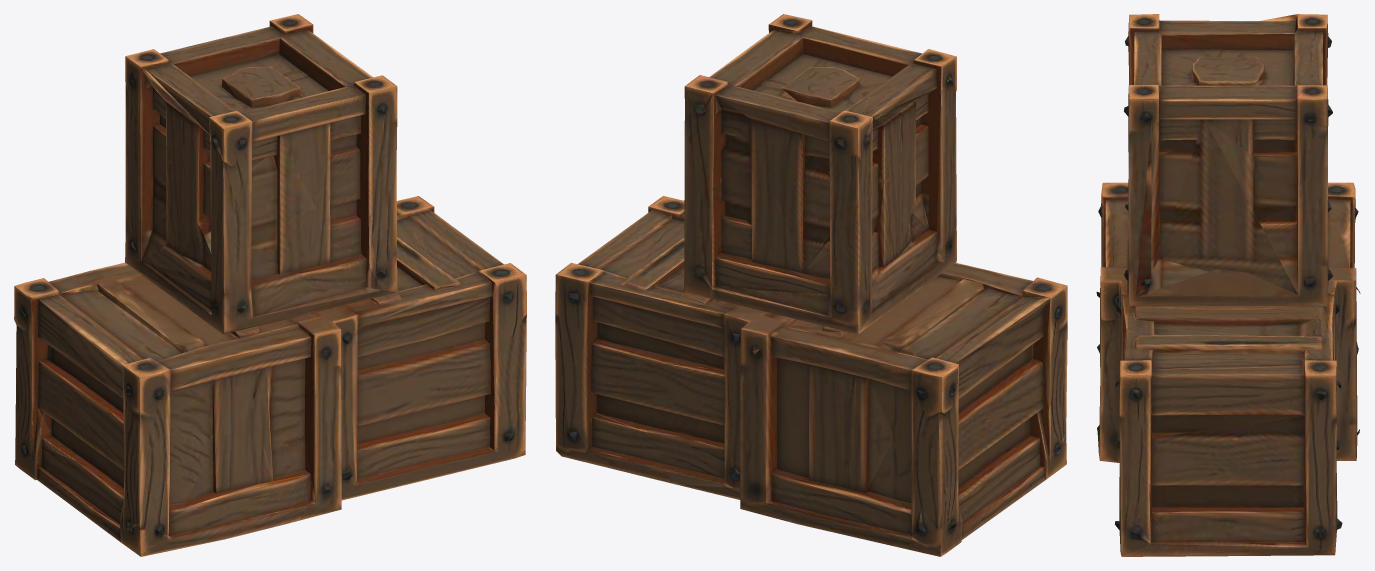
The model's file is crate-stack.glb.
3 renders of one model, left to right at view 1: azimuth 30°, elevation 25°; view 2: azimuth 150°, elevation 25°; view 3: azimuth 270°, elevation 25°, orthographic.
Parts seen in each view (by area): view 1: output_unwrapped; view 2: output_unwrapped; view 3: output_unwrapped.
Part boxes in pixels (bbox=[...]): output_unwrapped: bbox=[14, 14, 526, 556]; output_unwrapped: bbox=[555, 14, 1067, 556]; output_unwrapped: bbox=[1096, 14, 1360, 556].
Bounding box in the file's own units: 1.9 × 1.79 × 1.07.
1 material, 1 textured.
